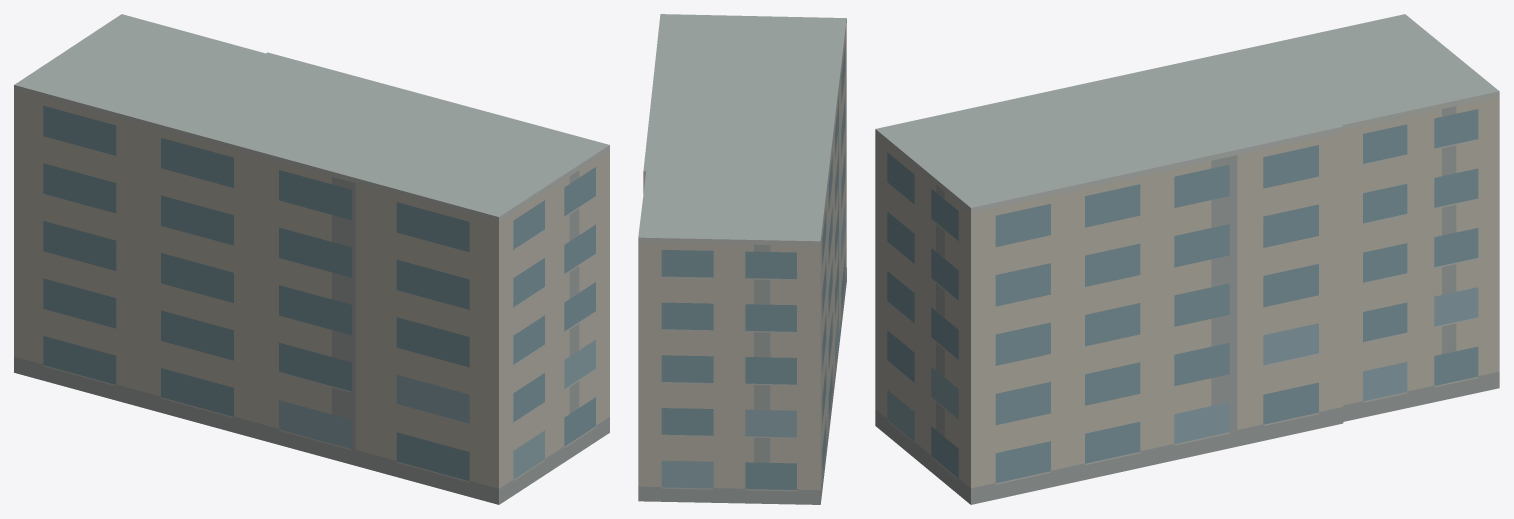
Rendered from survey-upis-33045911.glb.
3 views of the same model, side by side, from view 1: azimuth 30°, elevation 25°; view 2: azimuth 150°, elevation 25°; view 3: azimuth 270°, elevation 25° (orthographic). The views are drawn at different scales.
Parts seen in each view (by area): view 1: survey-upis-33045911.tmp; view 2: survey-upis-33045911.tmp; view 3: survey-upis-33045911.tmp.
Boxes of the visible parts, <box> form: survey-upis-33045911.tmp: <box>14,14,609,504</box>; survey-upis-33045911.tmp: <box>638,14,846,504</box>; survey-upis-33045911.tmp: <box>875,14,1499,504</box>.
Bounding box in the file's own units: 18.79 × 13.4 × 25.54.
